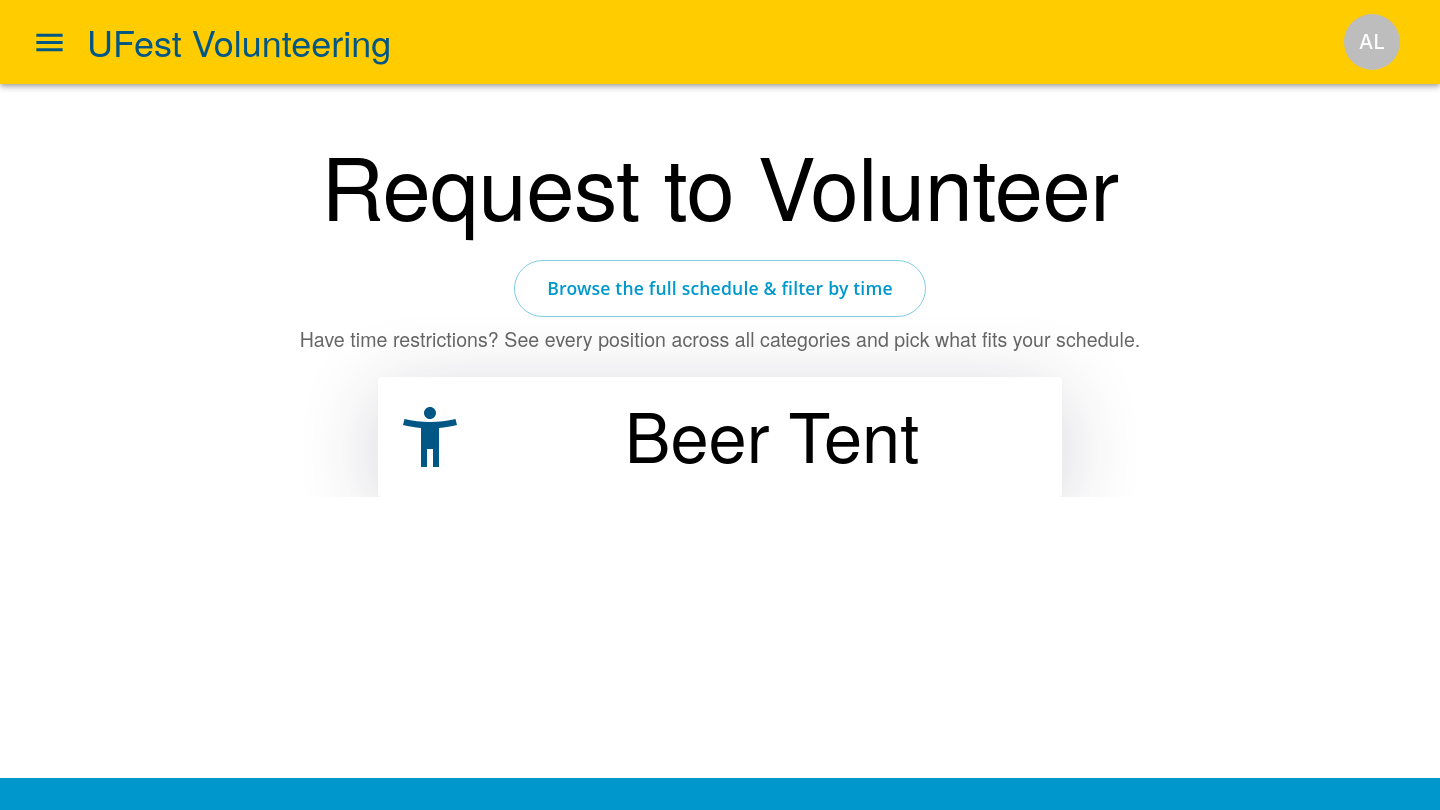
Scenario: customer flow: browse categories › shows volunteer categories and navigates into one to request a position
This screenshot has width=1440, height=810.
Click the link "Beer Tent" at (720, 437), box x1=378 y1=377 x2=1062 y2=497
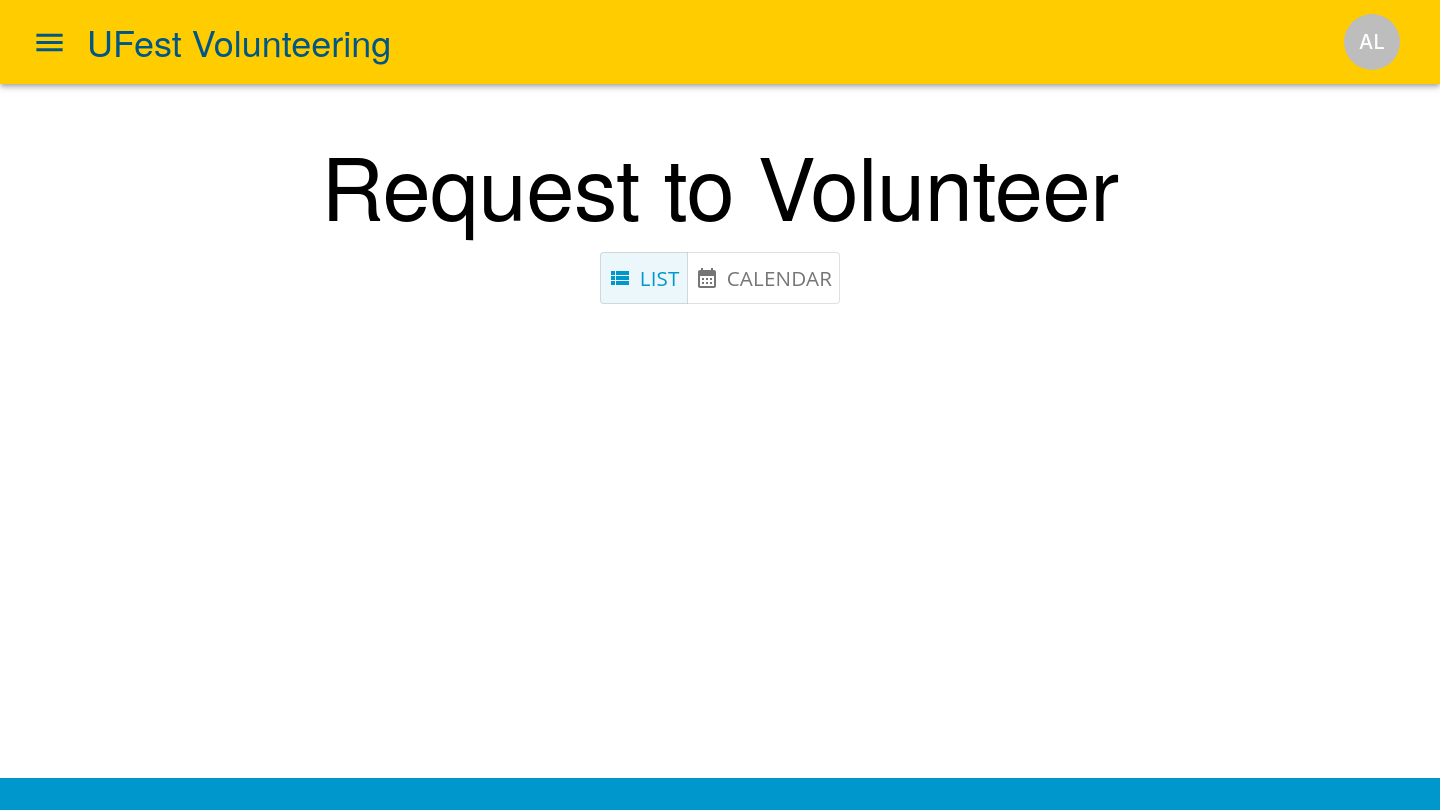
Expected: the button with aria-label "calendar view" is shown, x1=687 y1=252 x2=840 y2=304
